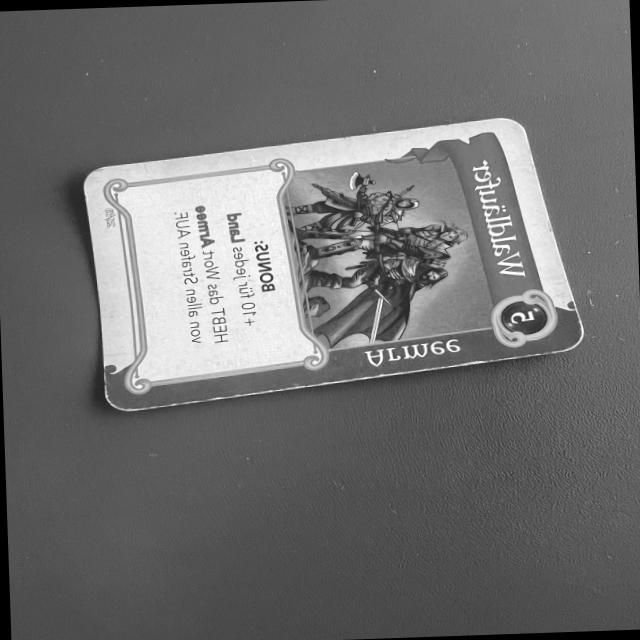Rangers: (82, 108, 584, 410)
